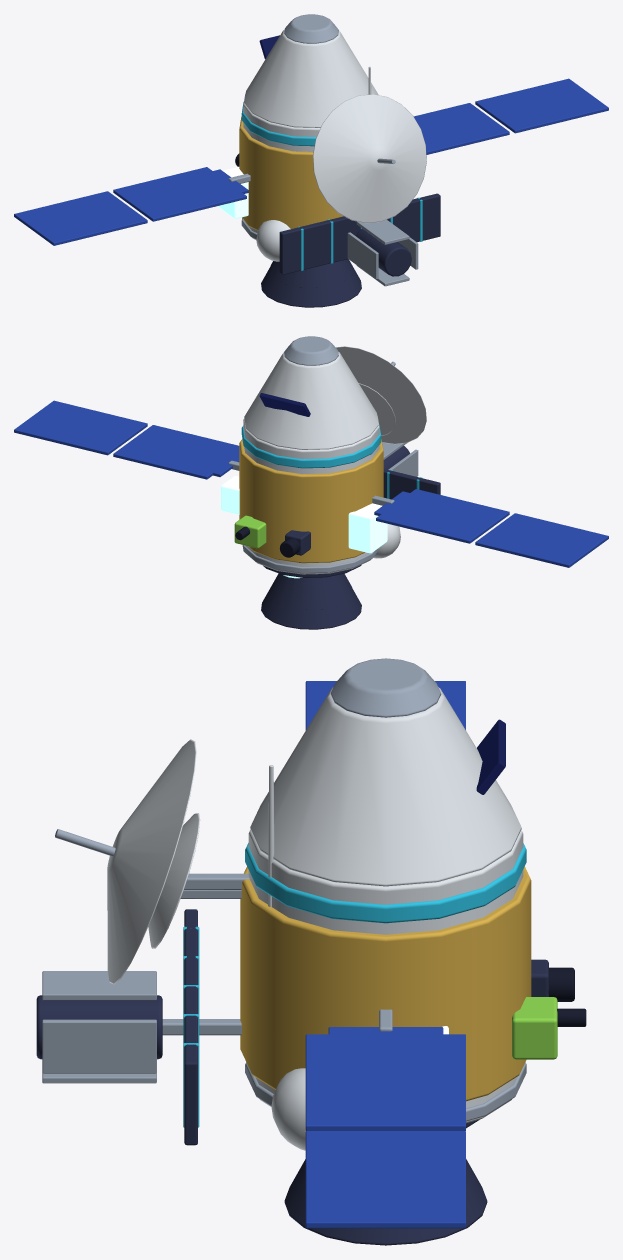
File: nave.glb
The picture shows the model from 3 angles, top to bottom: view 1: azimuth 30°, elevation 25°; view 2: azimuth 150°, elevation 25°; view 3: azimuth 270°, elevation 25°; orthographic projection. The views are drawn at different scales.
Visible parts, largest first — view 1: panel_grande, antena_alta_plato, nave_base_capsula, blindaje_lamina, radar_antena, motor_eficiente_tobera, rtg, panel_chico_der, panel_chico_izq, nave_base_tapa, nave_base_modulo, rtg_generador (+4 smaller); view 2: panel_grande, blindaje_lamina, nave_base_capsula, motor_eficiente_tobera, antena_alta_plato, nave_base_modulo, panel_chico_der, panel_chico_izq, redundancia_modulo, nave_base_franja, nave_base_tapa, radar_antena (+8 smaller); view 3: blindaje_lamina, nave_base_capsula, panel_grande, rtg, panel_chico_der, antena_alta_plato, nave_base_modulo, nave_base_franja, nave_base_tapa, motor_eficiente_tobera, radar_antena, rtg_generador (+9 smaller).
Part boxes in pixels (x1,y1,x2,y2): panel_grande: (14, 78, 608, 245); antena_alta_plato: (313, 94, 426, 223); nave_base_capsula: (244, 30, 378, 127); blindaje_lamina: (239, 117, 343, 230); radar_antena: (279, 193, 440, 274); motor_eficiente_tobera: (261, 259, 361, 307); rtg: (347, 219, 418, 286); panel_chico_der: (416, 107, 500, 146); panel_chico_izq: (143, 169, 248, 213); nave_base_tapa: (284, 14, 338, 43); nave_base_modulo: (243, 94, 320, 239); rtg_generador: (356, 228, 411, 276); panel_grande: (14, 400, 608, 567); blindaje_lamina: (239, 439, 383, 563); nave_base_capsula: (244, 352, 378, 449); motor_eficiente_tobera: (261, 573, 361, 629); antena_alta_plato: (336, 346, 426, 444); nave_base_modulo: (243, 416, 379, 574); panel_chico_der: (122, 429, 239, 476); panel_chico_izq: (374, 491, 486, 535); redundancia_modulo: (348, 503, 387, 553); nave_base_franja: (241, 424, 381, 468); nave_base_tapa: (284, 336, 338, 365); radar_antena: (383, 469, 440, 499); blindaje_lamina: (240, 866, 531, 1101); nave_base_capsula: (250, 687, 521, 886); panel_grande: (305, 681, 465, 1228); rtg: (42, 971, 156, 1083); panel_chico_der: (328, 1027, 443, 1122); antena_alta_plato: (107, 739, 196, 984); nave_base_modulo: (248, 830, 523, 1123); nave_base_franja: (245, 843, 526, 923); nave_base_tapa: (330, 658, 441, 717); motor_eficiente_tobera: (284, 1159, 487, 1245); radar_antena: (184, 909, 197, 1145); rtg_generador: (36, 995, 162, 1059).
Size of the model in its own units: 11.2 by 5.1 by 4.8.
